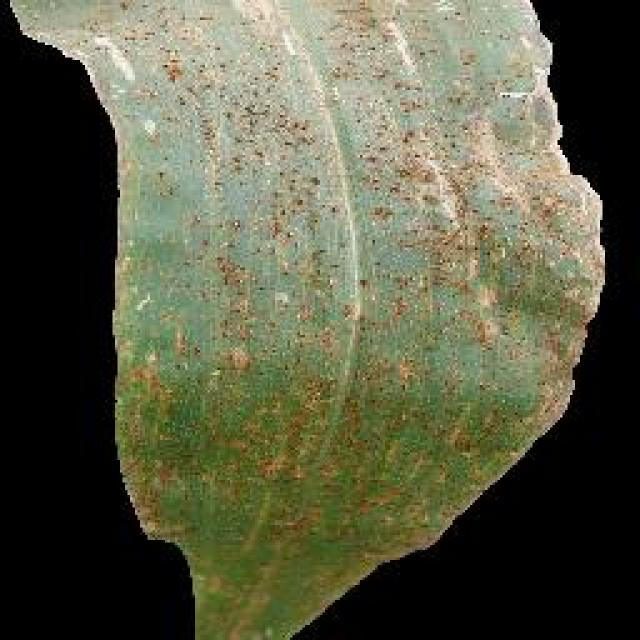Corn Common Rust: (105, 0, 527, 620)
